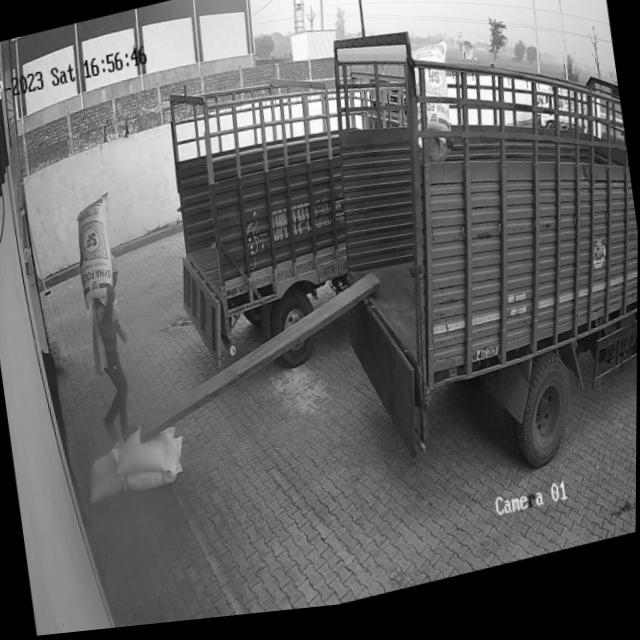sack: (70, 193, 124, 318), (111, 428, 181, 487), (121, 440, 188, 496), (83, 449, 127, 508)
